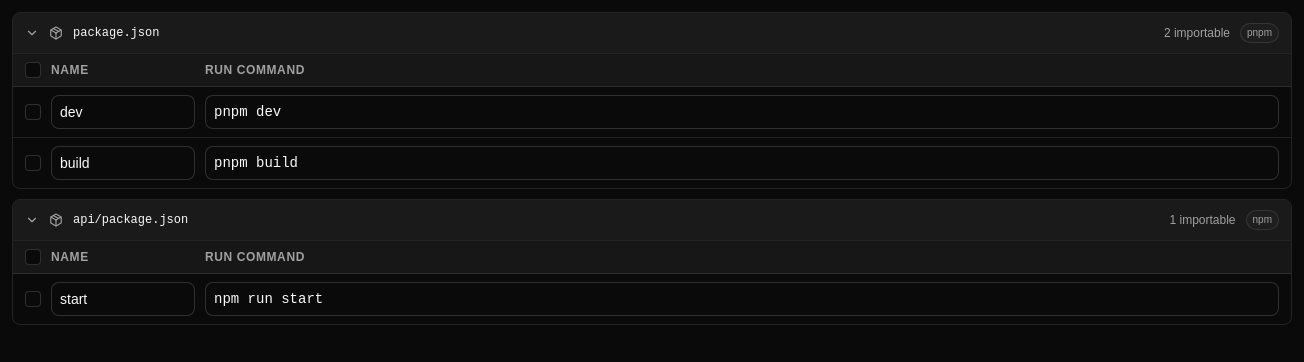
Test: <CommandImportSection> (import from package.json) › clears the collision once the colliding name is renamed to a unique one
Click the checkbox named "Select script dev" at (33, 112), box [25, 104, 41, 120]
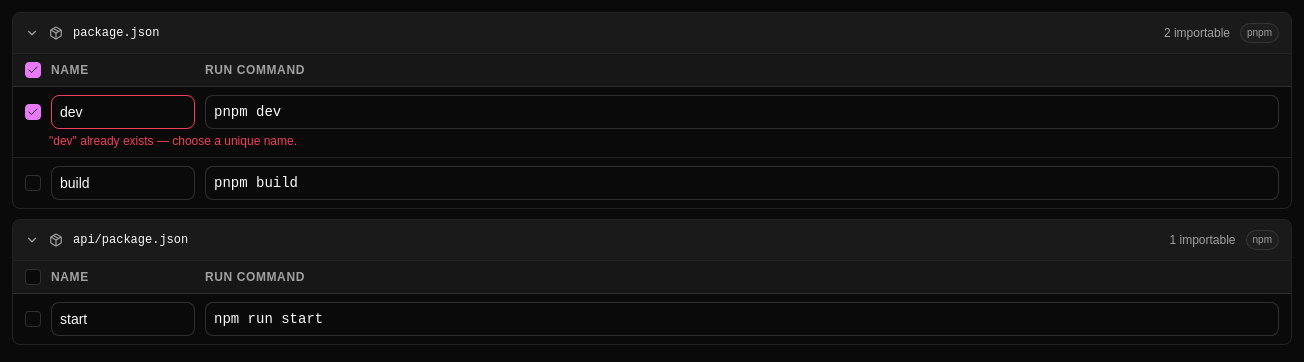
Expected: the message "\"dev\" already exists — choose a unique name." is shown, [49, 134, 297, 148]
Replace the text in the field named "Name for dev" with "dev-2" at (123, 112), box [51, 95, 195, 129]
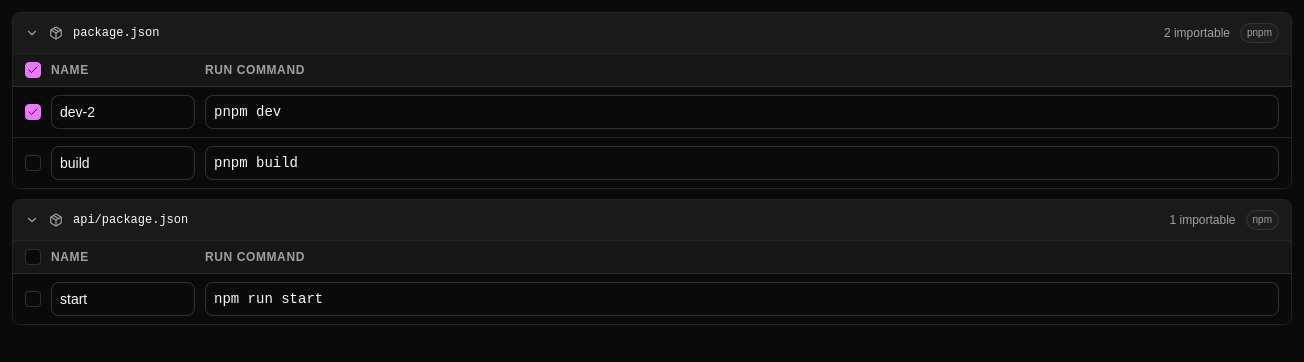
Expected: the message with test id "collision-error" is gone
